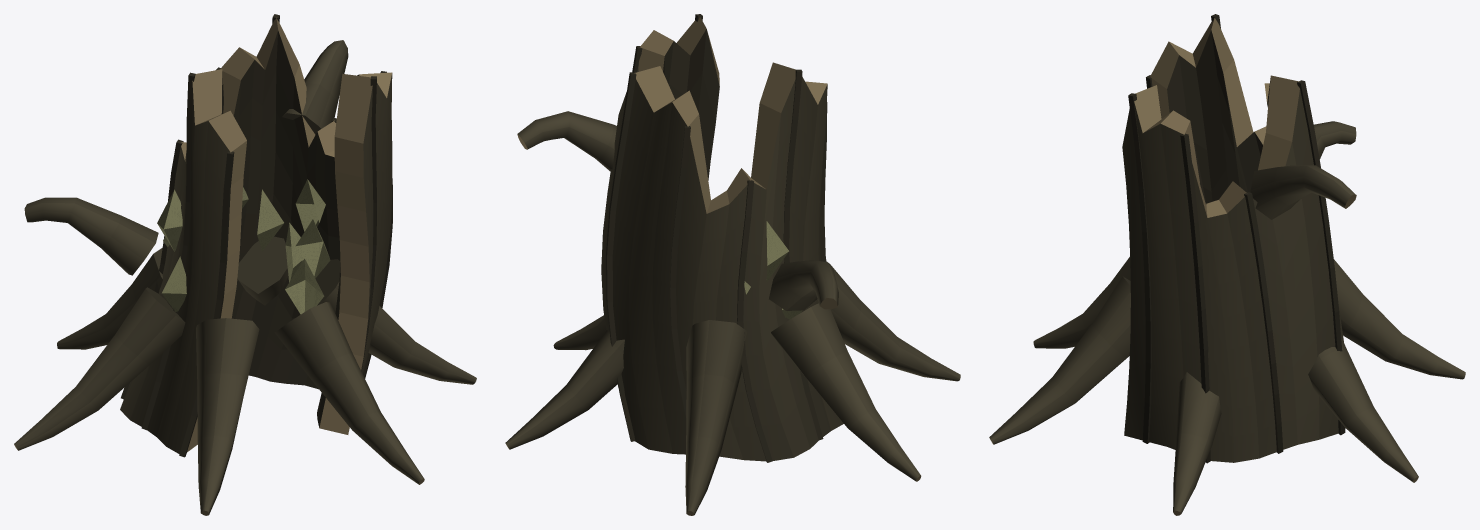
Rendered from strange_lantern_shell.glb.
3 renders of one model, left to right at view 1: azimuth 30°, elevation 25°; view 2: azimuth 150°, elevation 25°; view 3: azimuth 270°, elevation 25°, orthographic. The views are drawn at different scales.
Visible parts, largest first — view 1: strange_lantern_shell; view 2: strange_lantern_shell; view 3: strange_lantern_shell.
Boxes of the visible parts, box(x1,y1,x2,y2) form: strange_lantern_shell: box(14, 14, 476, 515); strange_lantern_shell: box(505, 14, 960, 515); strange_lantern_shell: box(989, 14, 1465, 515).
Size of the model in its own units: 2.91 by 2.41 by 2.82.
